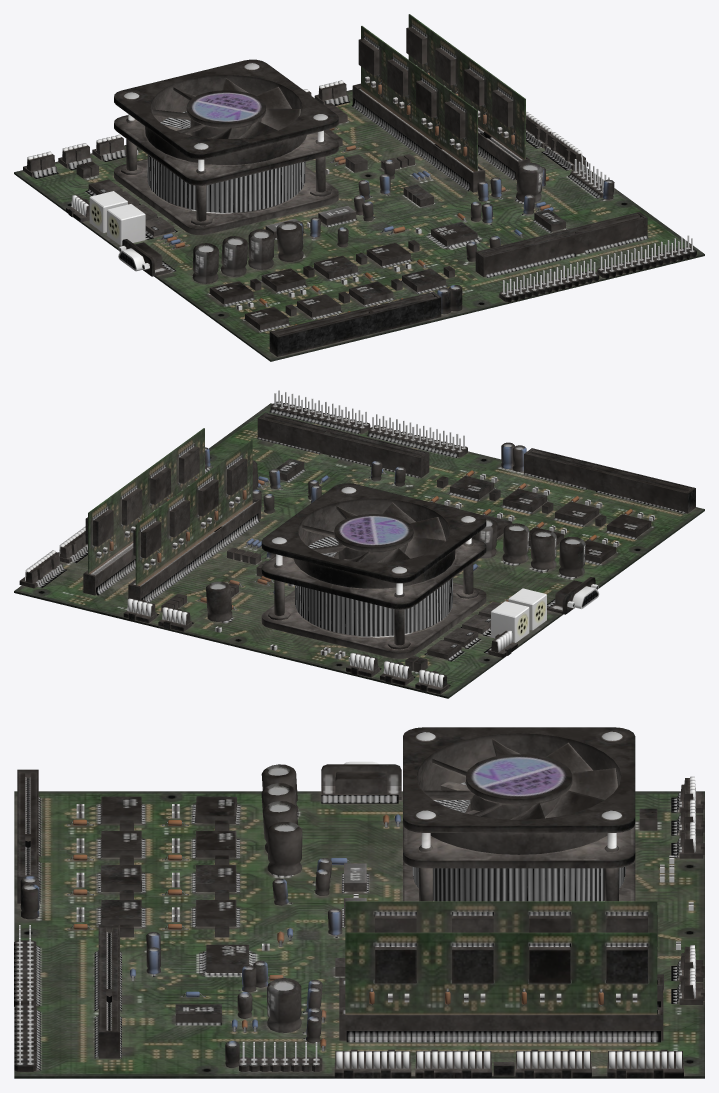
The model's file is circuit_board.glb.
3 renders of one model, top to bottom at view 1: azimuth 30°, elevation 25°; view 2: azimuth 150°, elevation 25°; view 3: azimuth 270°, elevation 25°, orthographic. The views are drawn at different scales.
Visible parts, largest first — view 1: circuit_board; view 2: circuit_board; view 3: circuit_board.
Part boxes in pixels (x1,y1,x2,y2): circuit_board: [14, 14, 704, 361]; circuit_board: [14, 390, 704, 698]; circuit_board: [14, 727, 704, 1078].
Bounding box in the file's own units: 0.4035 × 0.0783 × 0.3974.
2 materials, 2 textured.
